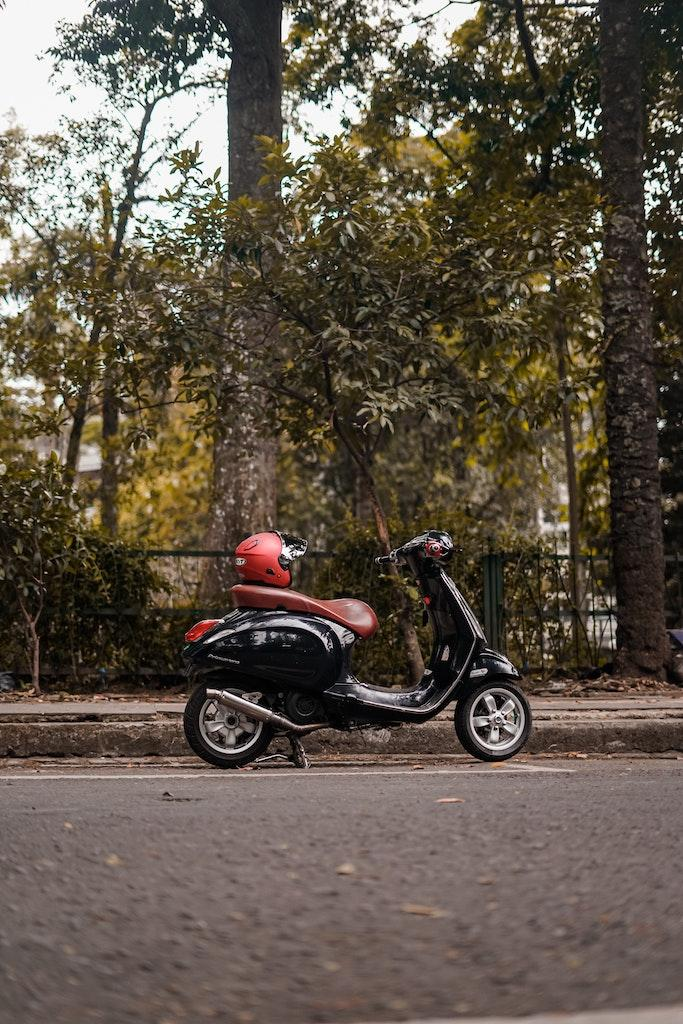helmet: (233, 528, 309, 589)
